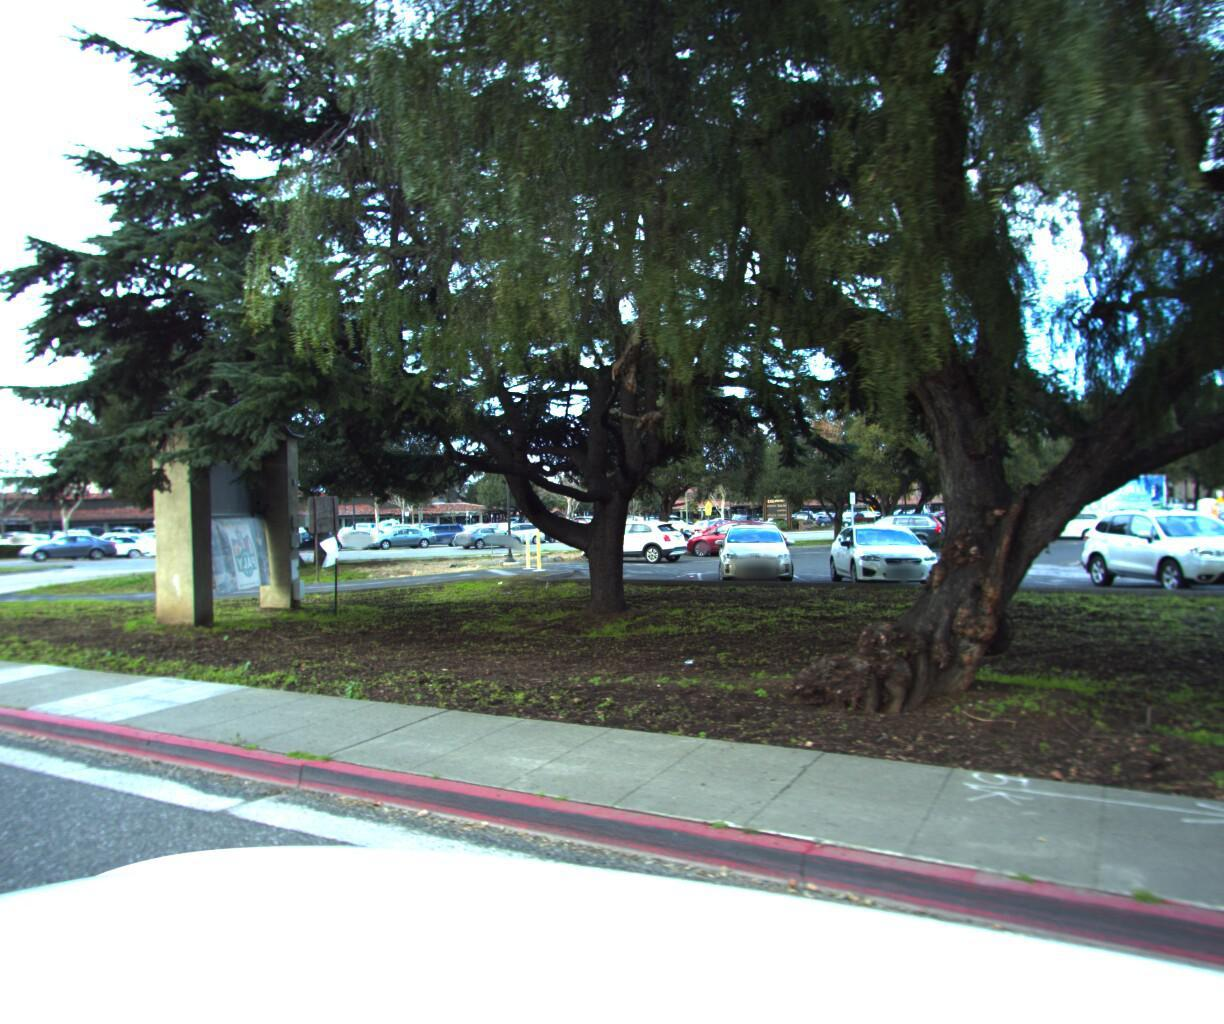car: (16, 525, 121, 557), (52, 529, 158, 557), (136, 523, 232, 553), (357, 519, 440, 545), (452, 518, 528, 545), (396, 517, 471, 543), (476, 515, 546, 540), (314, 521, 384, 545), (618, 510, 685, 535), (11, 526, 75, 548), (686, 510, 737, 532), (657, 511, 701, 526)
